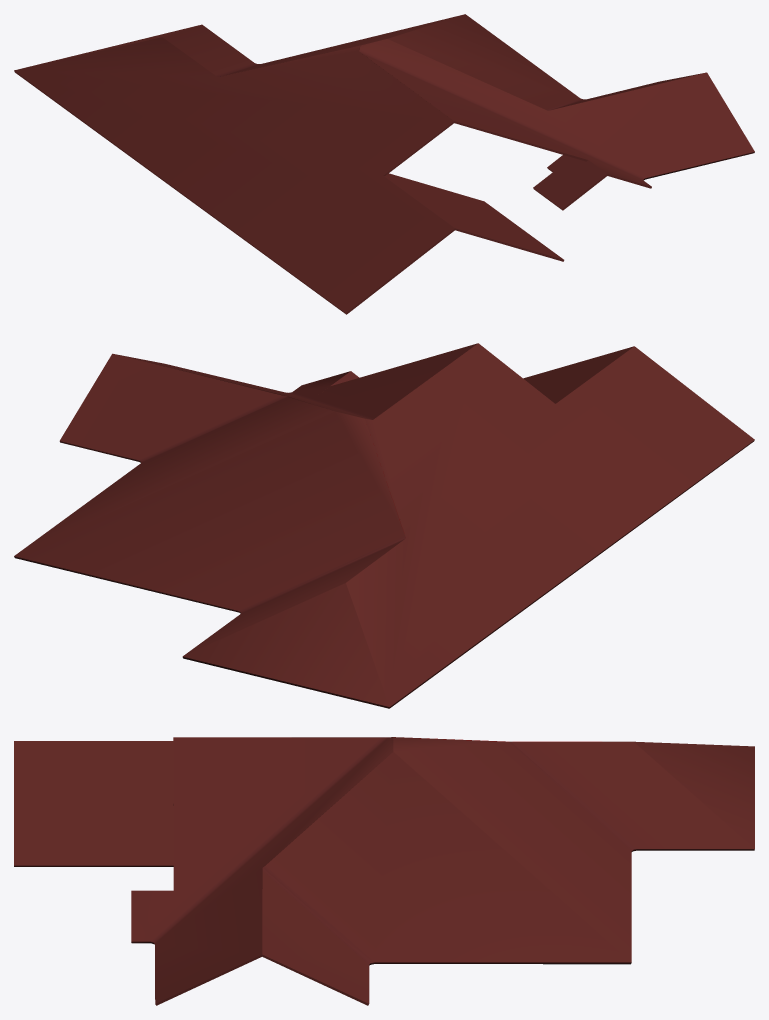
File: Roof_LowRes_Clad.fbx
3 renders of one model, top to bottom at view 1: azimuth 30°, elevation 25°; view 2: azimuth 150°, elevation 25°; view 3: azimuth 270°, elevation 25°, orthographic. The views are drawn at different scales.
Parts seen in each view (by area): view 1: Roof_LowRes_Clad; view 2: Roof_LowRes_Clad; view 3: Roof_LowRes_Clad.
Boxes of the visible parts, x1,y1,x2,y2 form: Roof_LowRes_Clad: [14, 14, 754, 314]; Roof_LowRes_Clad: [14, 343, 754, 708]; Roof_LowRes_Clad: [14, 737, 754, 1005].
Bounding box in the file's own units: 1764 × 358 × 2145.
